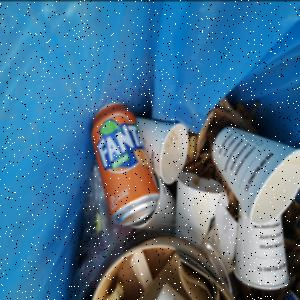Can: (91, 95, 161, 229)
Cup: (213, 118, 300, 226), (232, 224, 293, 294), (172, 172, 232, 242), (156, 115, 192, 185)
